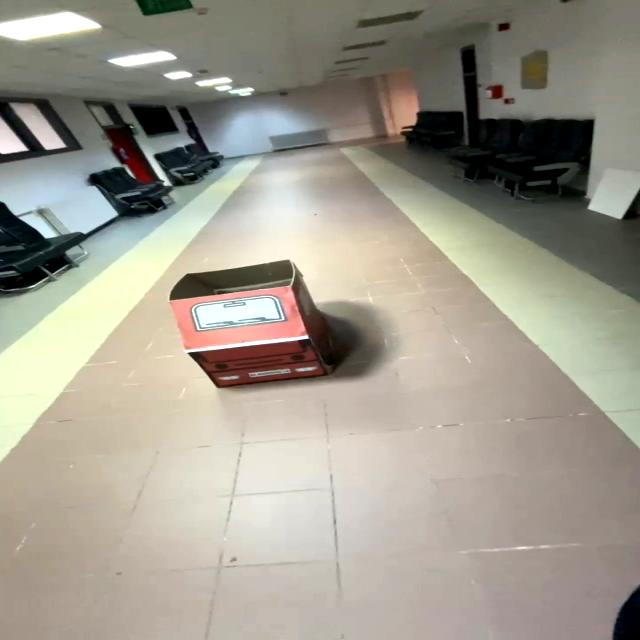red_car: (146, 254, 345, 402)
